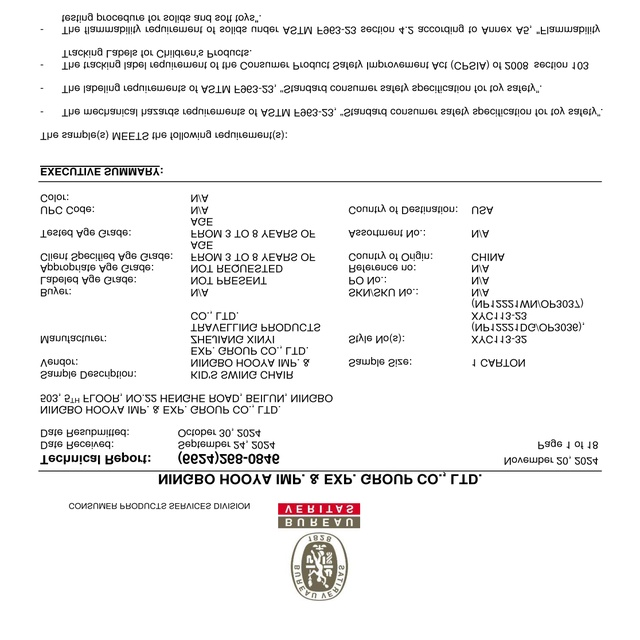bureau_veritas: (276, 498, 363, 603)
